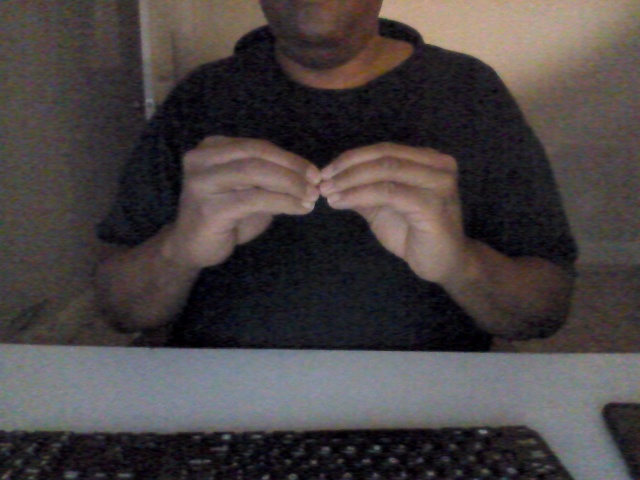more: (179, 130, 471, 284)
